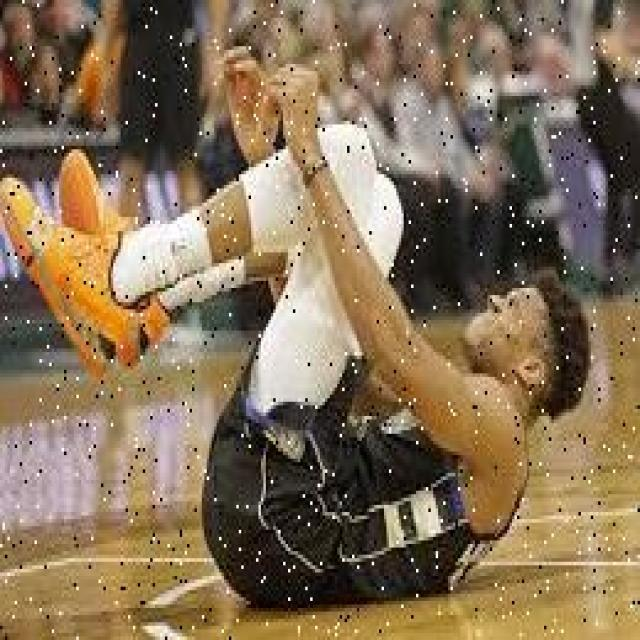fall: (24, 68, 558, 590)
